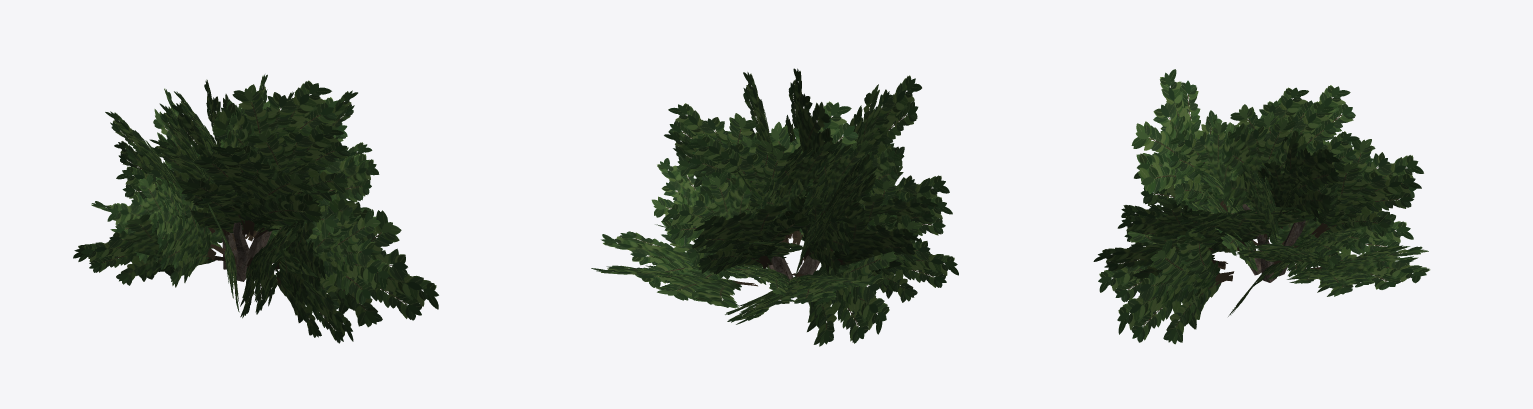
File: shrub_green_bush.glb
3 views of the same model, side by side, from view 1: azimuth 30°, elevation 25°; view 2: azimuth 150°, elevation 25°; view 3: azimuth 270°, elevation 25° (orthographic). The views are drawn at different scales.
Parts seen in each view (by area): view 1: shrub_green_bush_shrub_green_leaves, shrub_green_bush_bark_dead; view 2: shrub_green_bush_shrub_green_leaves, shrub_green_bush_bark_dead; view 3: shrub_green_bush_shrub_green_leaves, shrub_green_bush_bark_dead.
Boxes of the visible parts, x1,y1,x2,y2 form: shrub_green_bush_shrub_green_leaves: (73, 74, 438, 343); shrub_green_bush_bark_dead: (222, 222, 271, 281); shrub_green_bush_shrub_green_leaves: (591, 68, 958, 346); shrub_green_bush_bark_dead: (766, 202, 826, 287); shrub_green_bush_shrub_green_leaves: (1093, 69, 1430, 344); shrub_green_bush_bark_dead: (1231, 204, 1305, 282).
Size of the model in its own units: 1.91 by 1.43 by 2.12.
2 materials, 2 textured.
